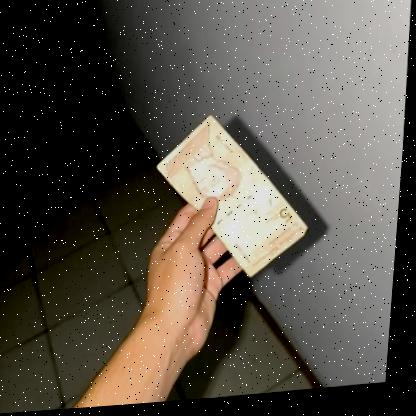five-front-vef: (150, 108, 320, 290)
